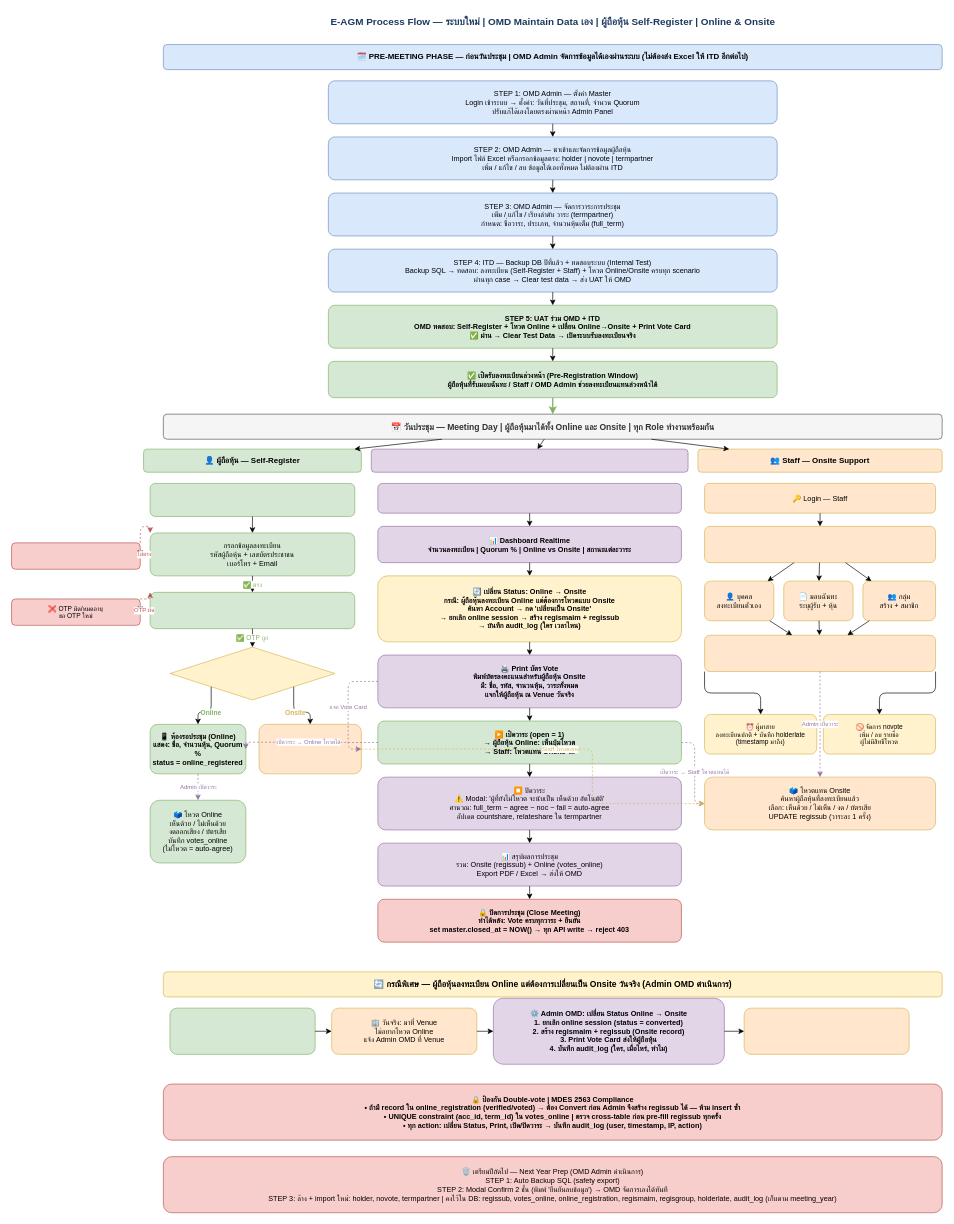
The diagram is 954 pixels wide and 1224 high, and some of its shapes have lost their labels. The box of each missing label's shape, as (x1, y1, x2, y2) in pixels:
รับ OTP: SMS / Email (10 นาที) กรอก OTP 6 หลัก เพื่อยืนยันตัวตน: (149, 592, 355, 629)
เข้า URL ระบบ (Self-Register) ผ่าน Mobile / Browser / คอมพิวเตอร์: (149, 483, 355, 516)
เลือกรูปแบบ เข้าร่วมประชุม: (169, 646, 335, 700)
⚙️ Admin OMD — จัดการวันประชุม + เปลี่ยน Status: (371, 448, 688, 472)
❌ ข้อมูลไม่ตรง / novote แจ้งเตือน → กรอกใหม่: (11, 542, 140, 569)
🏢 Onsite แจ้งเจ้าหน้าที่ที่ Venue รับบัตร Vote Card จาก Admin OMD: (258, 724, 361, 774)
💾 บันทึก regismaim + regissub pre-fill ทุกวาระ = เห็นด้วย (default ก่อนเปิดวาระ): (704, 635, 936, 672)
📱 ผู้ถือหุ้นเคย ลงทะเบียน Online (status = online_registered): (169, 1007, 315, 1054)
🔍 ค้นหาผู้ถือหุ้น รหัส / ชื่อ / เลขบัตรประชาชน: (704, 526, 936, 563)
🔑 Login — Admin OMD: (377, 483, 681, 513)
🗳️ Staff โหวตแทน Onsite ตามปกติผ่านระบบ Staff UPDATE regissub: (743, 1007, 909, 1054)
